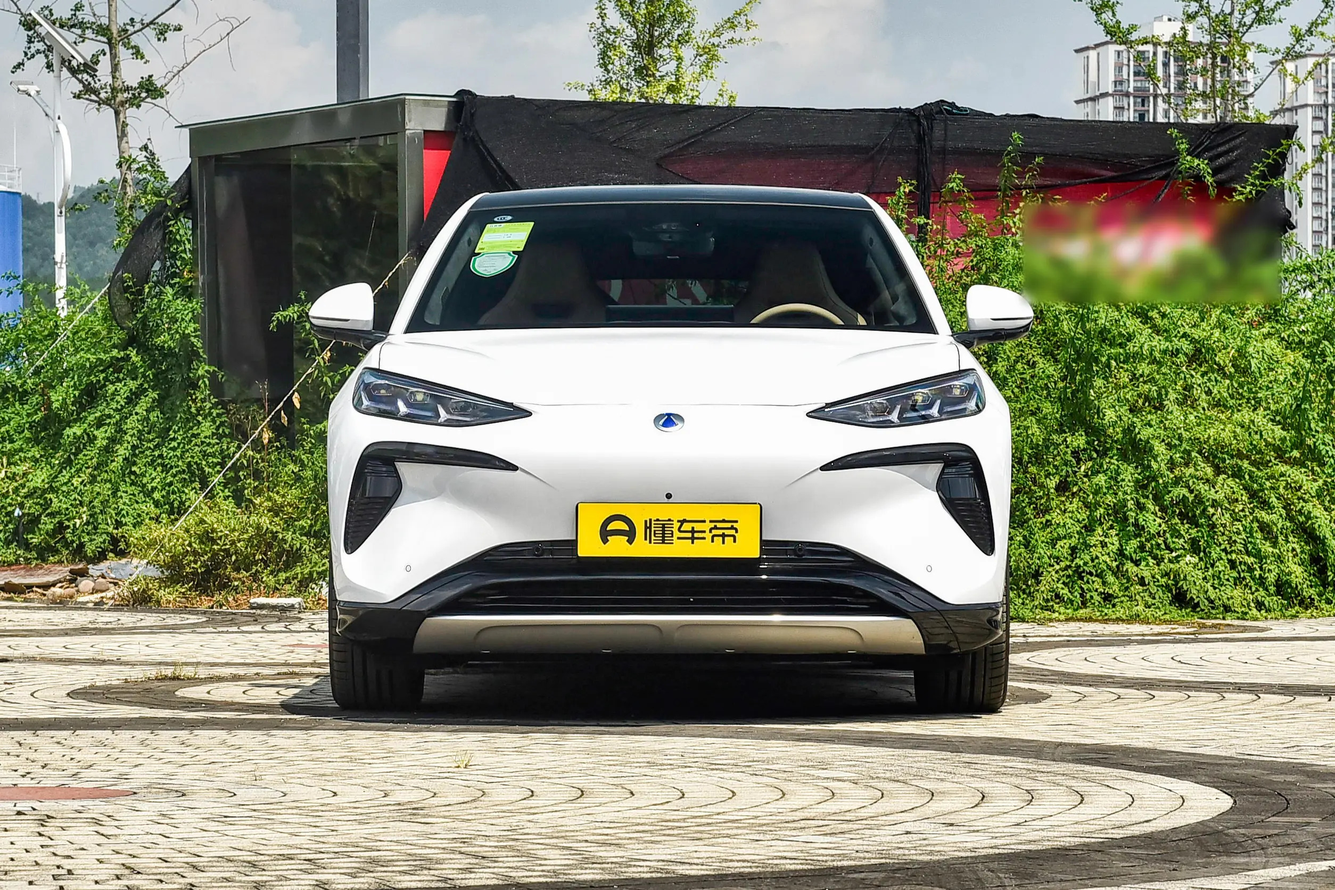DENZA: (654, 413, 685, 432)
